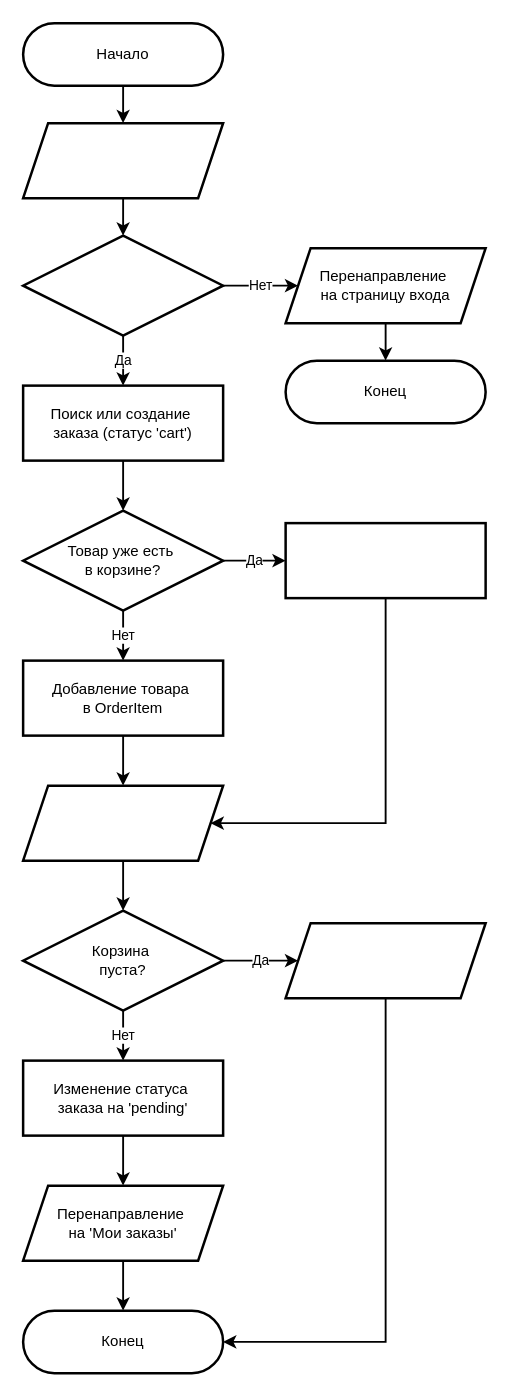
Some shapes in this 508 by 1395 pixel diagram are drawn without their labels. Here are the shapes that lost their labels. From the top down, the centre of each, then its label:
the point at 122,160: Запрос добавления товара в корзину
the point at 122,285: Пользователь авторизован?
the point at 385,560: Увеличить количество (quantity+1)
the point at 122,822: Запрос на оформление заказа
the point at 385,960: Вывод сообщения о пустой корзине
